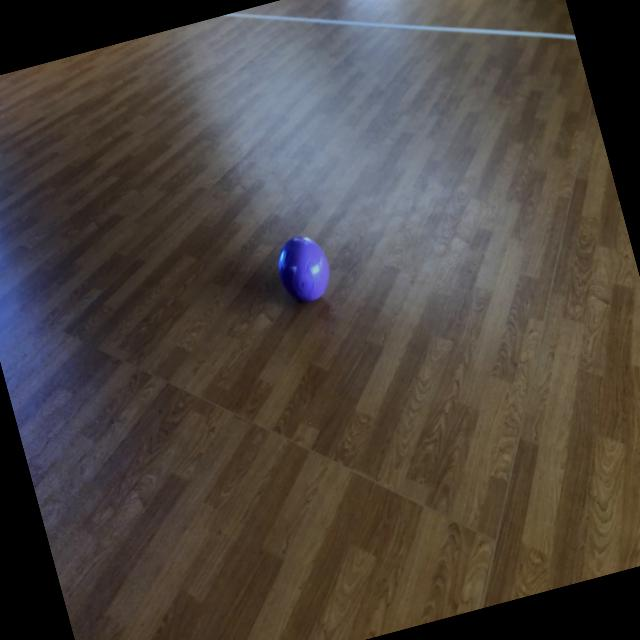purple_ball: (270, 230, 336, 308)
